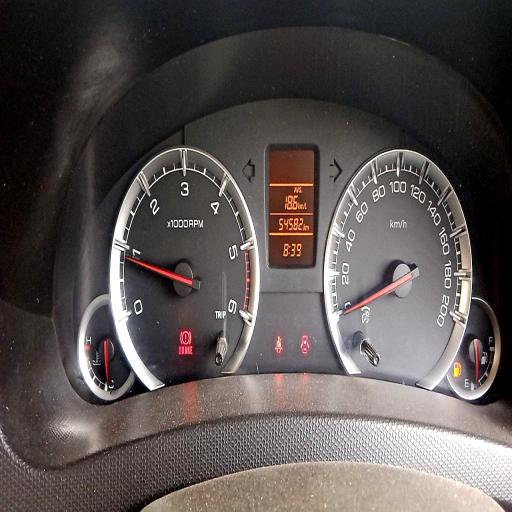belt: (274, 334, 282, 354)
brake_system_fault: (180, 330, 191, 345)
tachometer: (109, 146, 260, 388)
